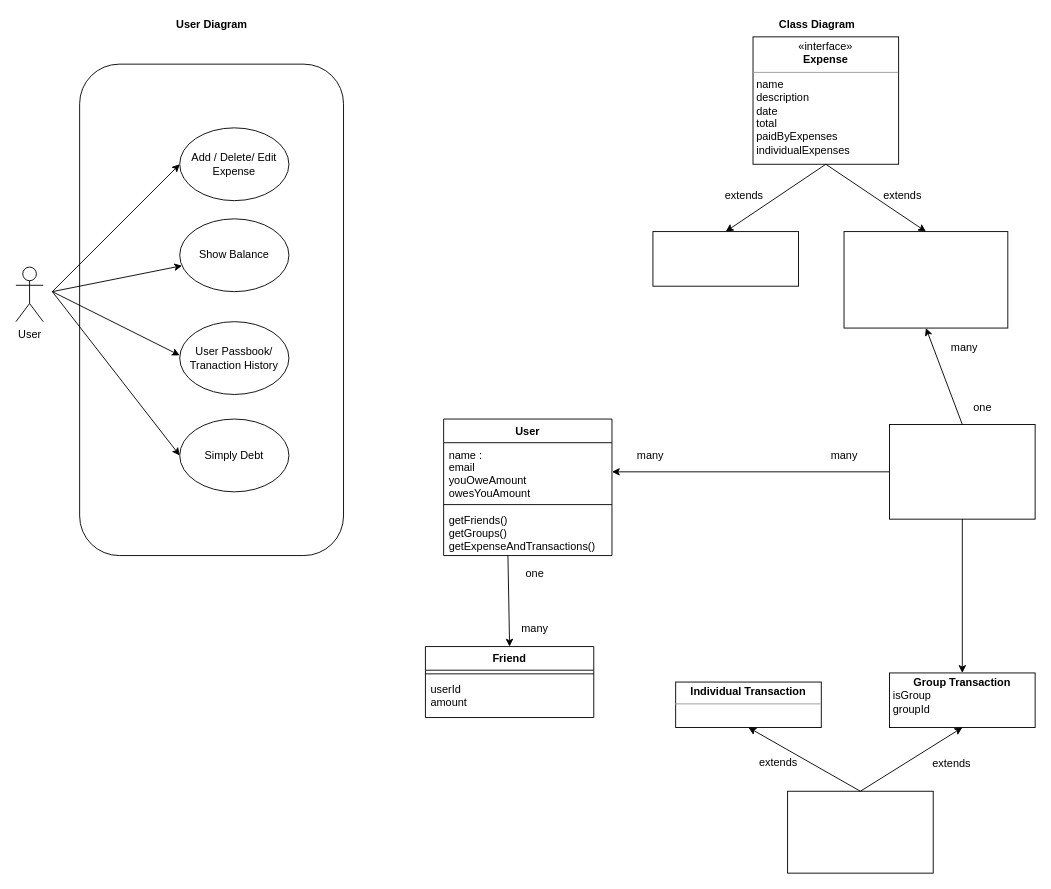
Image size: 1051x889. Some labels were removed from this diagram. The centre of each missing label's shape, as x and y in pixels:
Group Expense groupId getGroupUsers() getPaidByUsersWithAmount(): (925,279)
Group name createdBy addExpense(): (962,471)
Individual Expense: (725,258)
«interface» Transaction from : to : amount :: (860,831)
